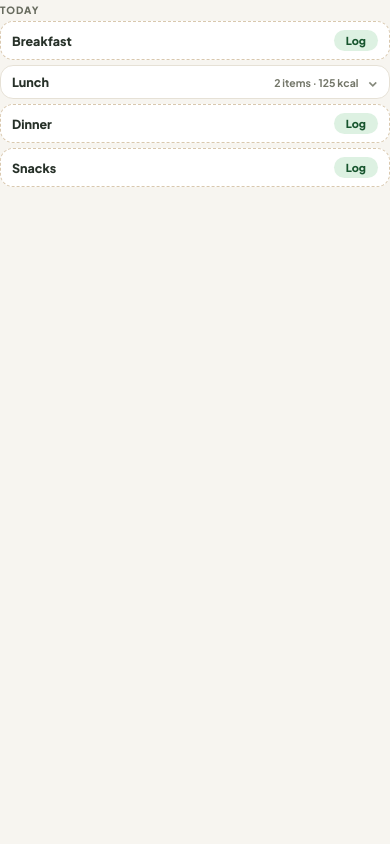
it: FoodDiary parts rendering › reads a logged portion of a batch as "1 of 4 servings" on the same mark
This screenshot has width=390, height=844.
Click the button with aria-label "Lunch —".
click(30, 82)  # box [12, 74, 378, 90]
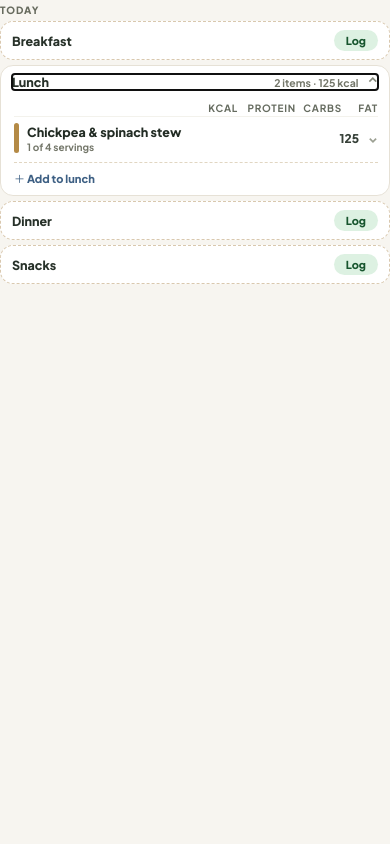
Check: the text "1 of 4 servings" is shown, box [27, 140, 94, 152]
